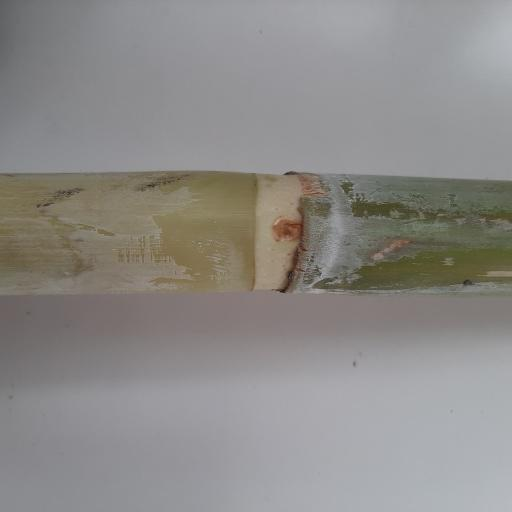Damage_Bud: (268, 218, 304, 243)
